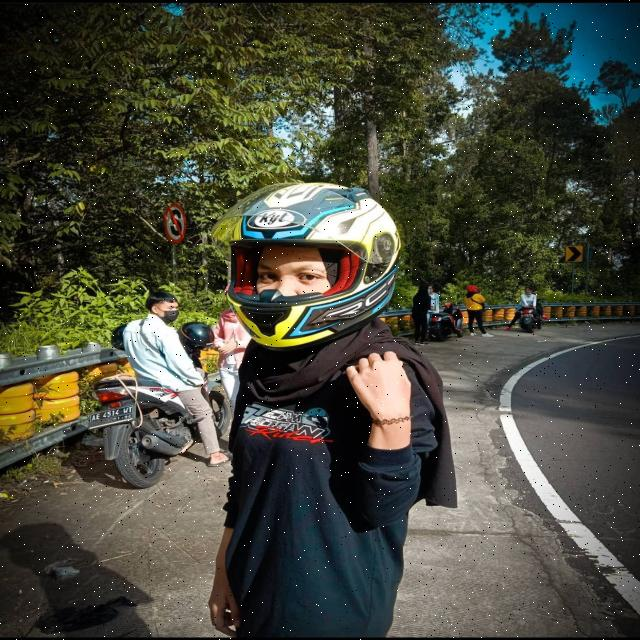Helmet: (209, 182, 403, 348)
